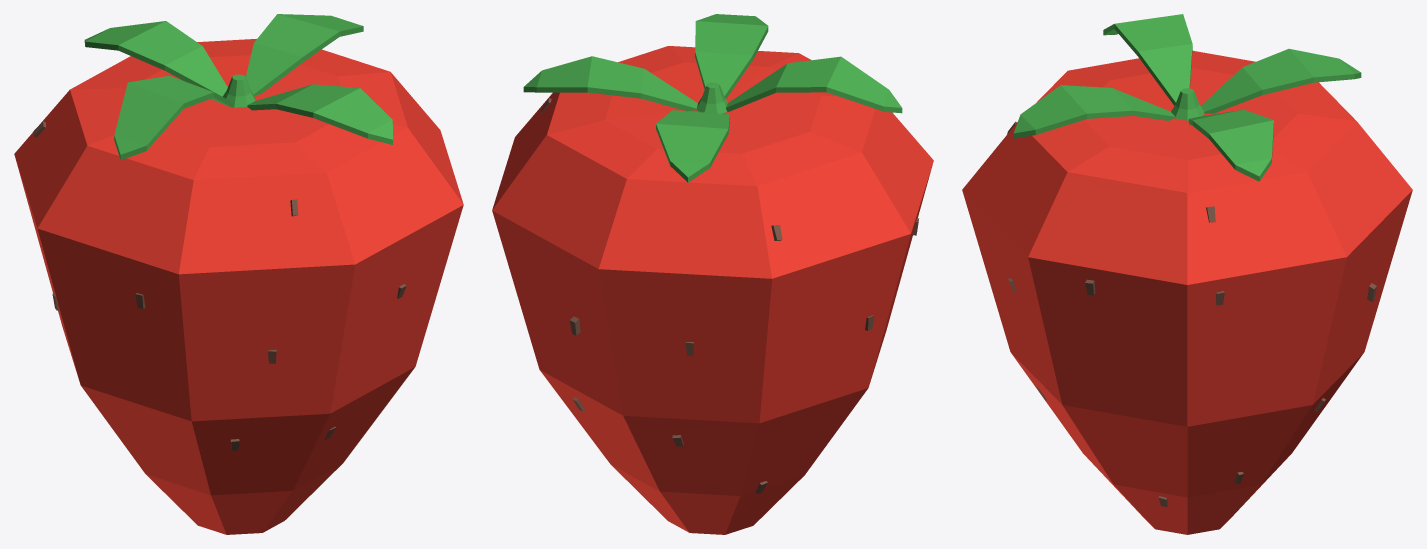
Rendered from Strawberry.glb.
3 views of the same model, side by side, from view 1: azimuth 30°, elevation 25°; view 2: azimuth 150°, elevation 25°; view 3: azimuth 270°, elevation 25° (orthographic). The views are drawn at different scales.
Parts seen in each view (by area): view 1: Circle.004_Circle.002; view 2: Circle.004_Circle.002; view 3: Circle.004_Circle.002.
Boxes of the visible parts, bbox=[...] form: Circle.004_Circle.002: bbox=[14, 14, 463, 534]; Circle.004_Circle.002: bbox=[492, 14, 933, 534]; Circle.004_Circle.002: bbox=[962, 14, 1412, 534].
Bounding box in the file's own units: 8.74 × 9.97 × 8.74.
